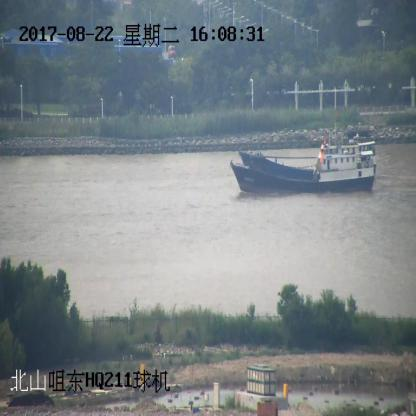Fishing Boat: (238, 110, 378, 181), (231, 148, 373, 193)
